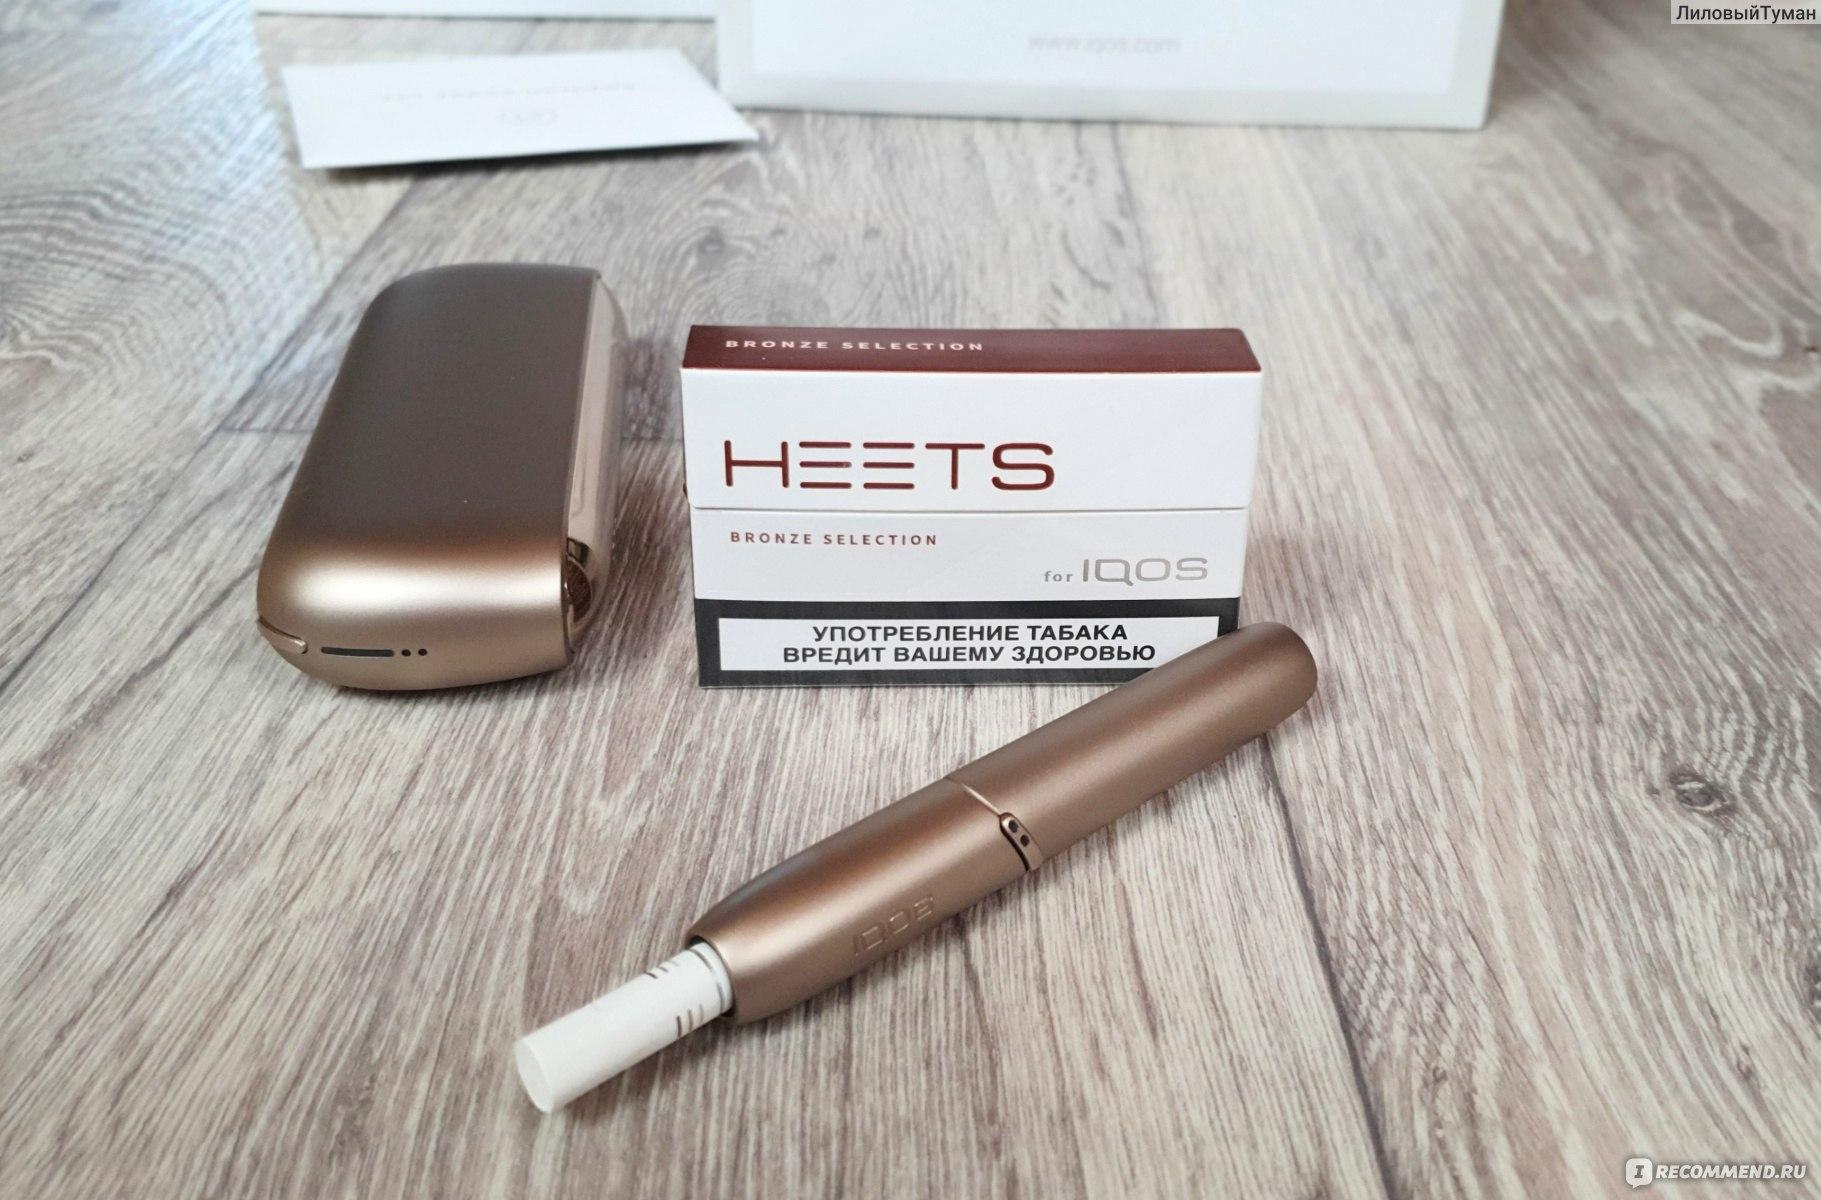iqos: (516, 624, 1316, 1112)
